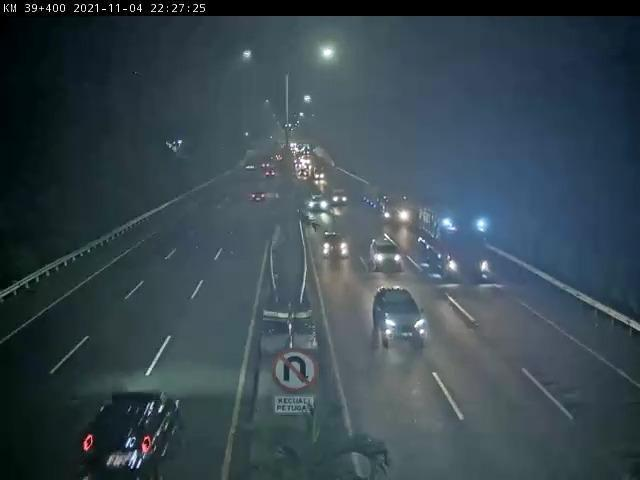car: (83, 392, 179, 480), (371, 287, 428, 347), (371, 238, 404, 269), (322, 231, 350, 256), (308, 194, 331, 214), (249, 191, 270, 208), (330, 190, 345, 206)
truck: (423, 207, 495, 283), (364, 190, 410, 229)
